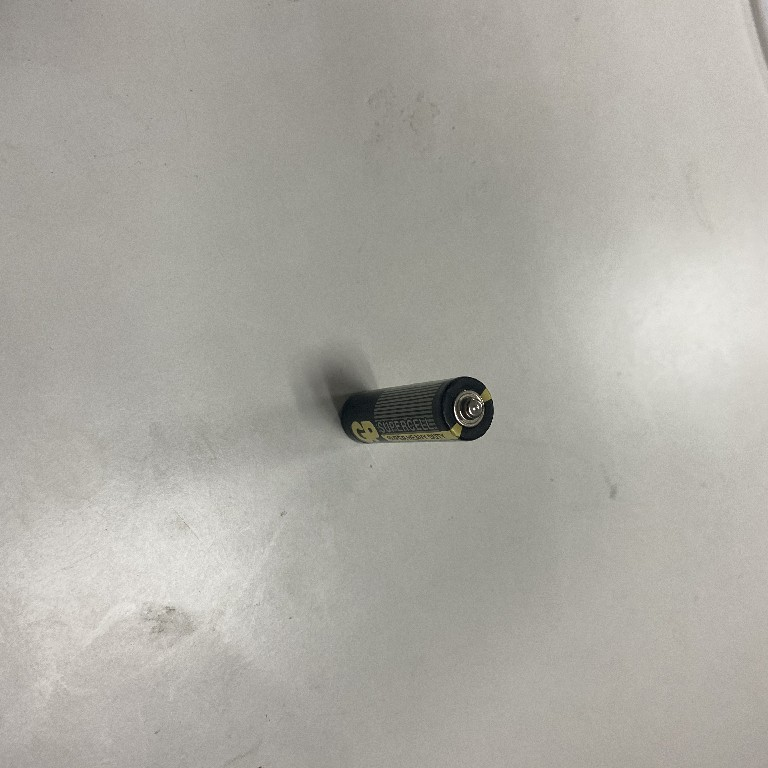charge: (338, 372, 503, 453)
